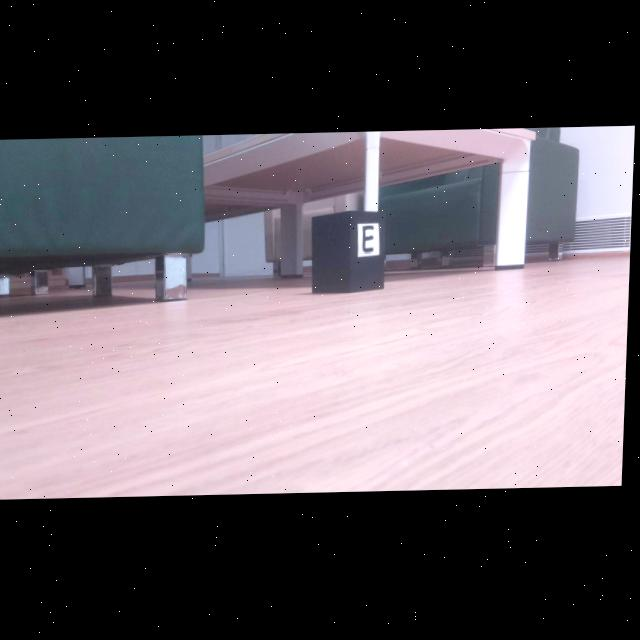E: (364, 228, 376, 254)
